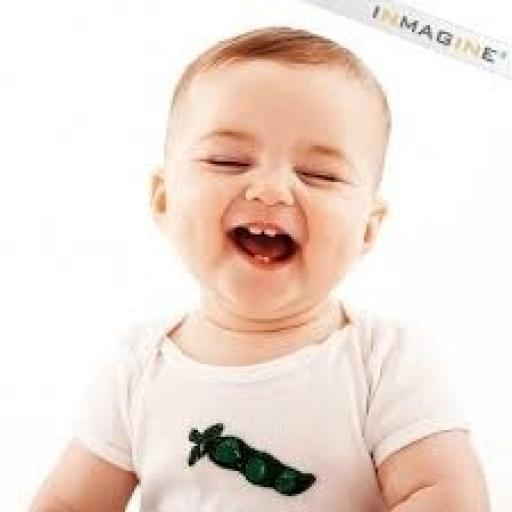laughing: (16, 20, 501, 510)
